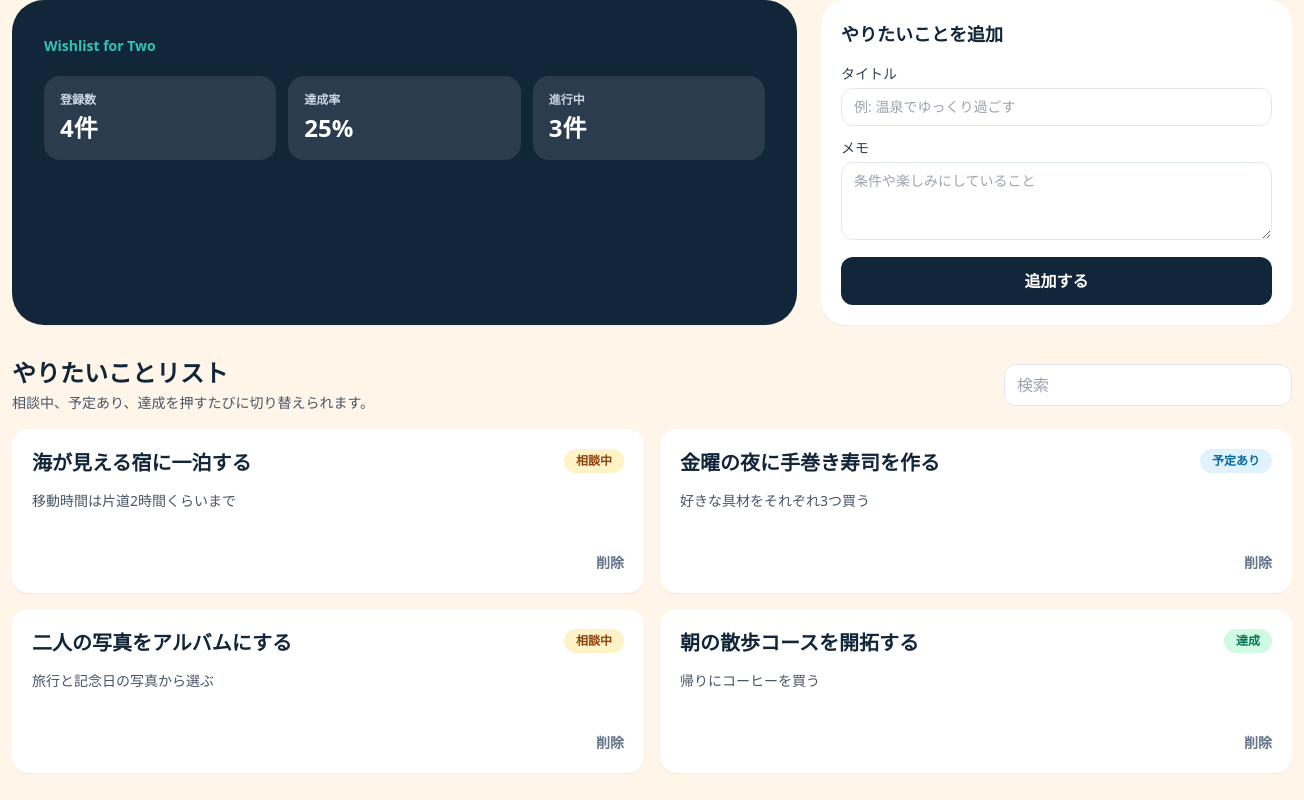
CoupleBucketListApp › cycles item status
This screenshot has width=1304, height=800.
Click the button "相談中" in the row of "海が見える宿に一泊する".
click(594, 461)  # box [564,449,624,473]
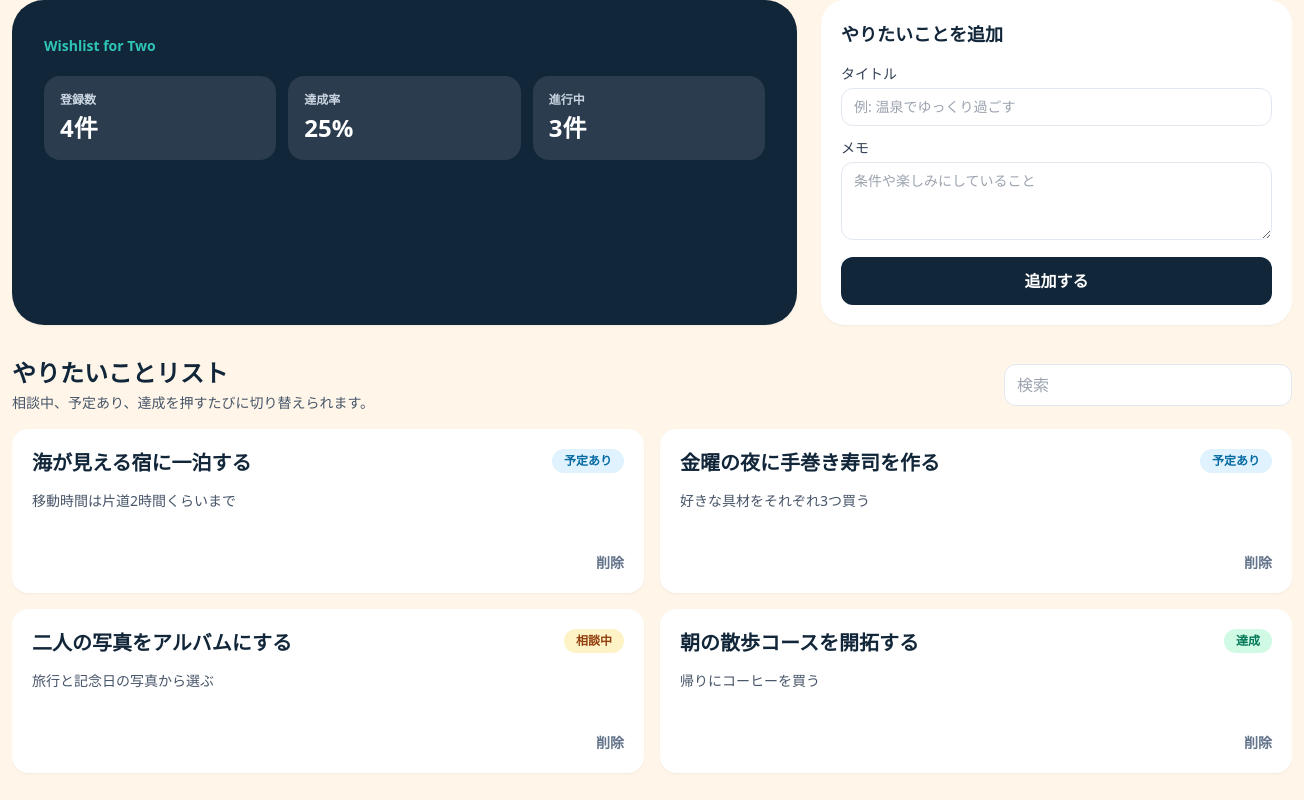
Now the button "予定あり" in the row of "海が見える宿に一泊する" is shown, box [552,449,624,473]
